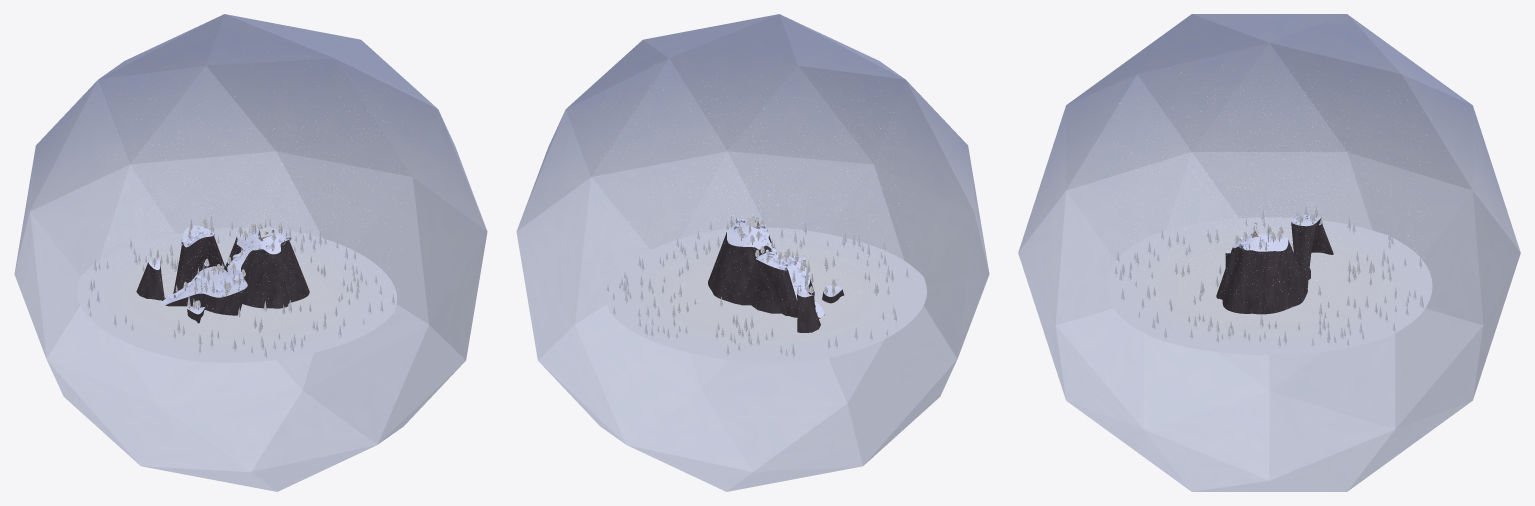
3 views of the same model, side by side, from view 1: azimuth 30°, elevation 25°; view 2: azimuth 150°, elevation 25°; view 3: azimuth 270°, elevation 25° (orthographic). The views are drawn at different scales.
Visible parts, largest first — view 1: Trees_VertexColor_0, Snow_SnowWithTexture_0; view 2: Trees_VertexColor_0, Snow_SnowWithTexture_0; view 3: Trees_VertexColor_0, Snow_SnowWithTexture_0.
Part boxes in pixels (x1,y1,x2,y2): Trees_VertexColor_0: [14, 14, 487, 491]; Snow_SnowWithTexture_0: [136, 225, 309, 323]; Trees_VertexColor_0: [516, 14, 989, 491]; Snow_SnowWithTexture_0: [708, 218, 844, 332]; Trees_VertexColor_0: [1018, 14, 1520, 491]; Snow_SnowWithTexture_0: [1216, 214, 1333, 314].
Size of the model in its own units: 156 by 164 by 164.
3 materials, 2 textured.
